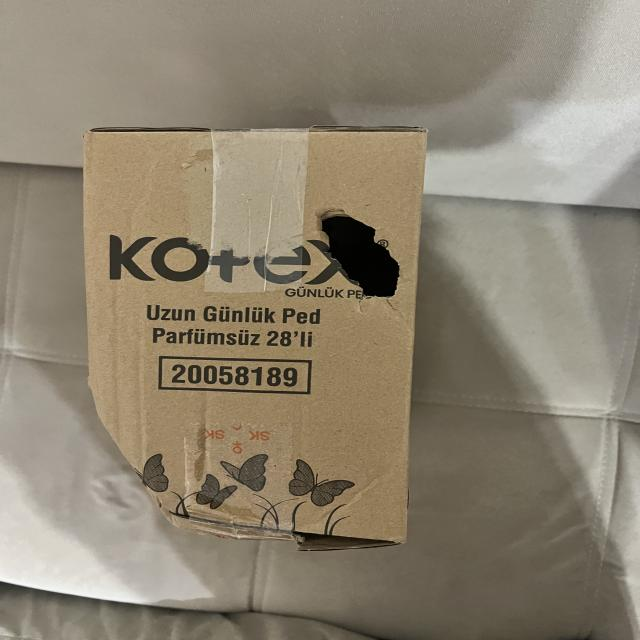damaged: (89, 127, 431, 547), (89, 403, 197, 528), (311, 200, 410, 308)
